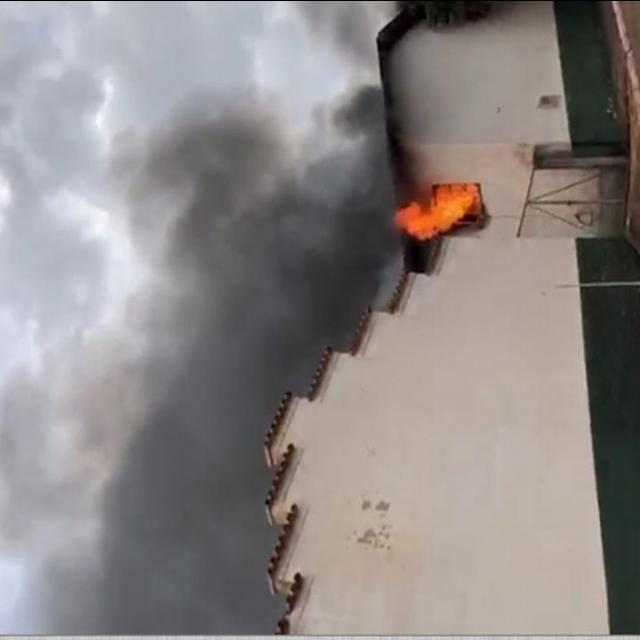Fire: (382, 175, 482, 248)
